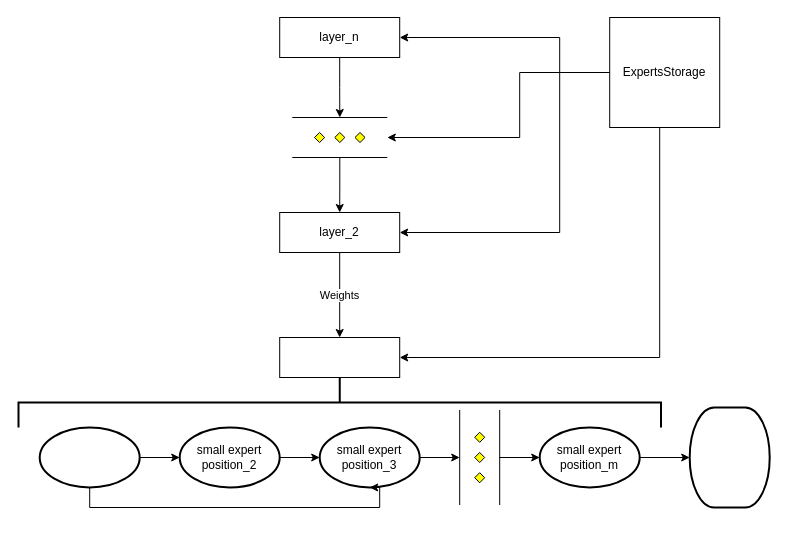
Image size: 788x533. Some labels were removed from this diagram. The centre of each missing label's shape, as x and y in pixels:
"gate out / model out" goes at pixel 729 457.
"layer_1" goes at pixel 339 357.
"small expert pos_1" goes at pixel 89 457.
